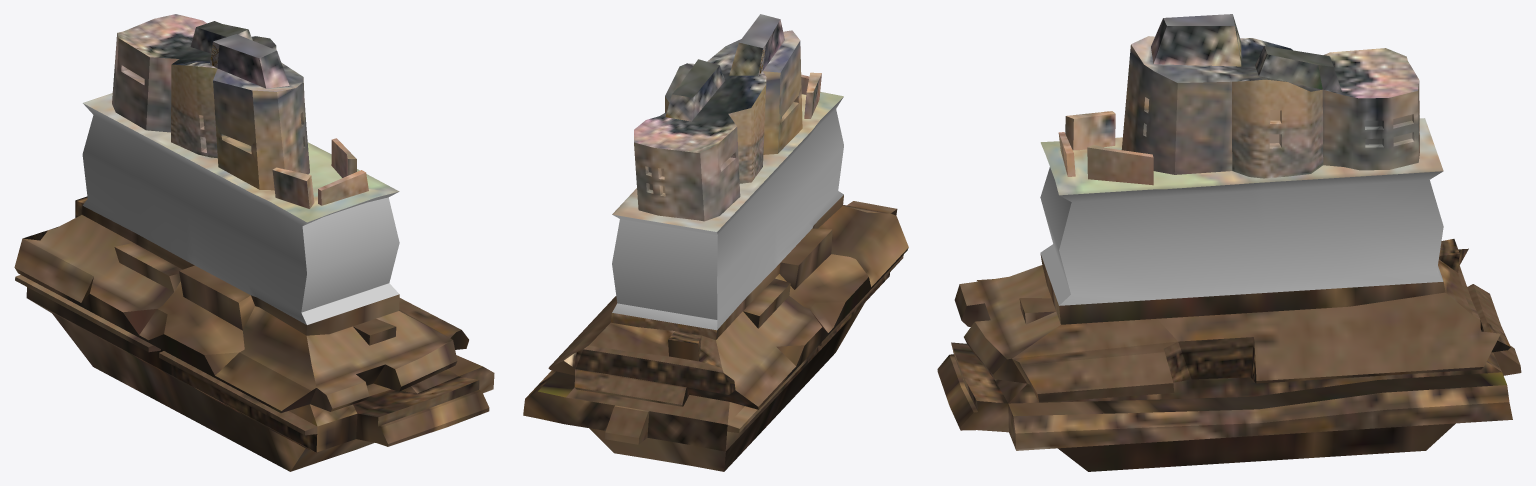
Rendered from Barracks5.fbx.
3 renders of one model, left to right at view 1: azimuth 30°, elevation 25°; view 2: azimuth 150°, elevation 25°; view 3: azimuth 270°, elevation 25°, orthographic. The views are drawn at different scales.
Parts seen in each view (by area): view 1: Cube_010.006; view 2: Cube_010.006; view 3: Cube_010.006.
Part boxes in pixels (bbox=[...]): Cube_010.006: bbox=[14, 14, 494, 471]; Cube_010.006: bbox=[523, 14, 908, 471]; Cube_010.006: bbox=[937, 14, 1521, 471].
Bounding box in the file's own units: 28.56 × 37.37 × 48.39.
